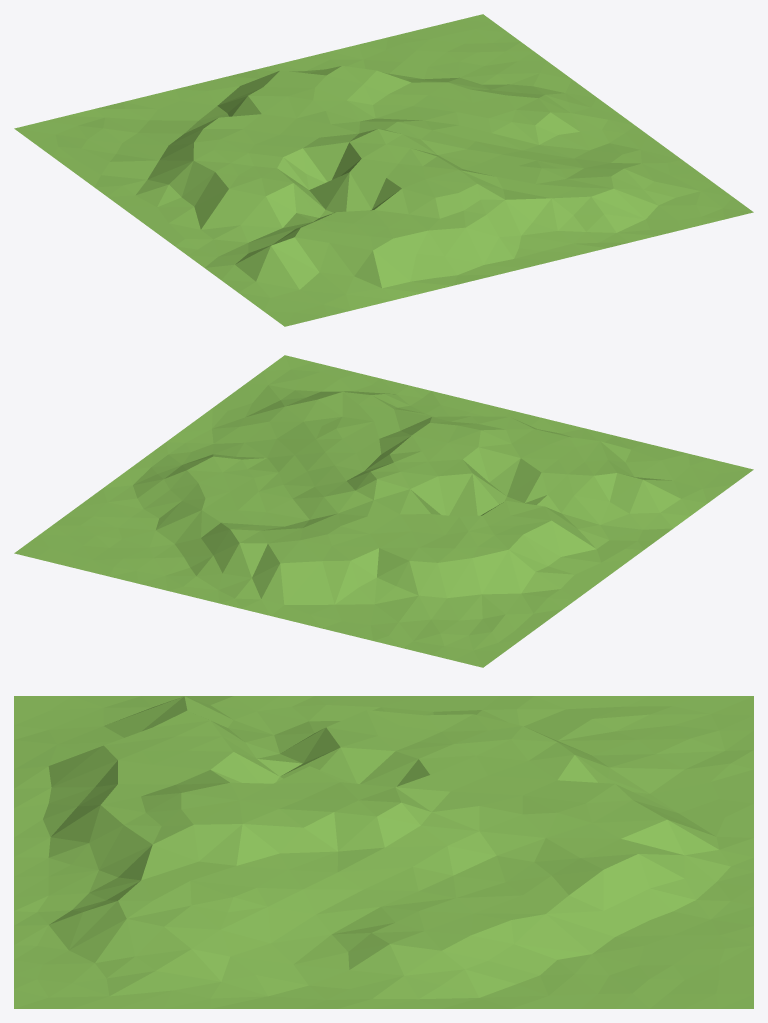
Rendered from MT_Terrain_M_d_13.fbx.
The picture shows the model from 3 angles, top to bottom: view 1: azimuth 30°, elevation 25°; view 2: azimuth 150°, elevation 25°; view 3: azimuth 270°, elevation 25°; orthographic projection. The views are drawn at different scales.
Parts seen in each view (by area): view 1: MT_Terrain_M_d_13; view 2: MT_Terrain_M_d_13; view 3: MT_Terrain_M_d_13.
Boxes of the visible parts, left/top/right/bottom form: MT_Terrain_M_d_13: left=14, top=14, right=753, bottom=326; MT_Terrain_M_d_13: left=14, top=355, right=753, bottom=667; MT_Terrain_M_d_13: left=14, top=696, right=753, bottom=1008.
Bounding box in the file's own units: 5000 × 385 × 5000.
